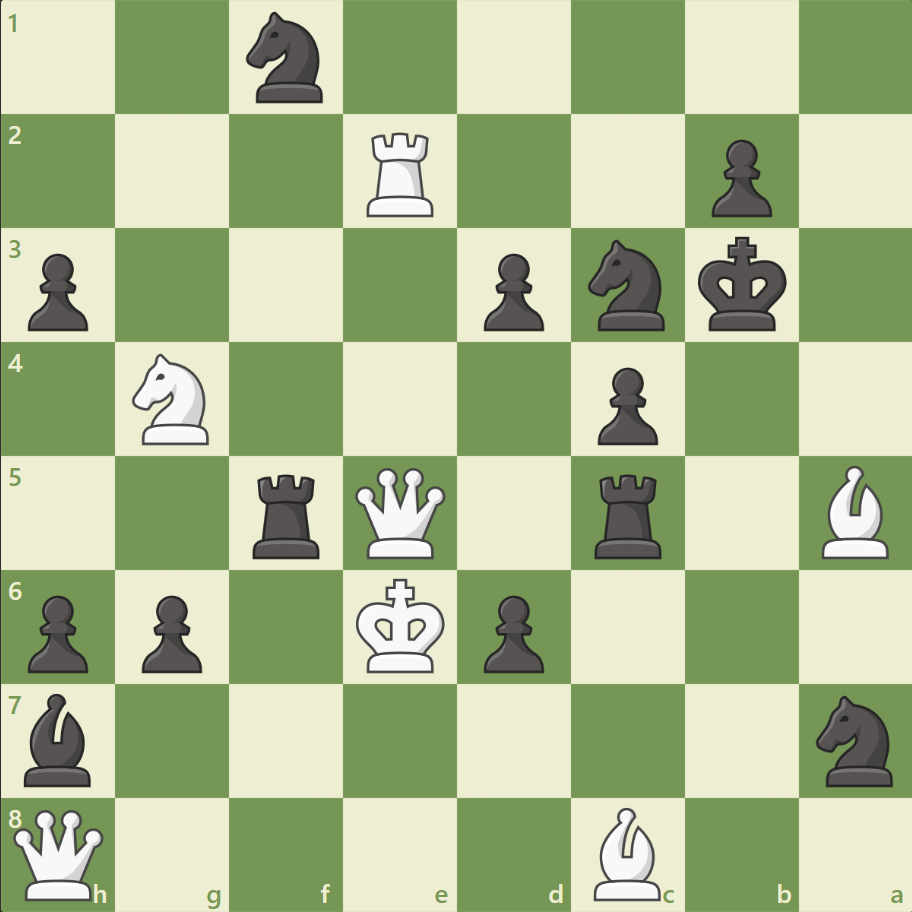B: (585, 801, 669, 904), (812, 460, 896, 563)
K: (351, 571, 451, 679)
N: (124, 348, 222, 450)
Q: (10, 804, 109, 903), (351, 463, 450, 562)
R: (360, 125, 442, 222)
b: (17, 687, 101, 790)
k: (692, 231, 792, 339)
n: (806, 688, 903, 791), (579, 234, 676, 337), (238, 7, 335, 110)
p: (474, 586, 549, 677), (133, 586, 208, 677), (20, 586, 95, 677), (474, 246, 549, 337), (20, 246, 95, 337), (701, 132, 776, 223), (588, 359, 662, 450)
r: (587, 466, 670, 563), (246, 466, 329, 563)
